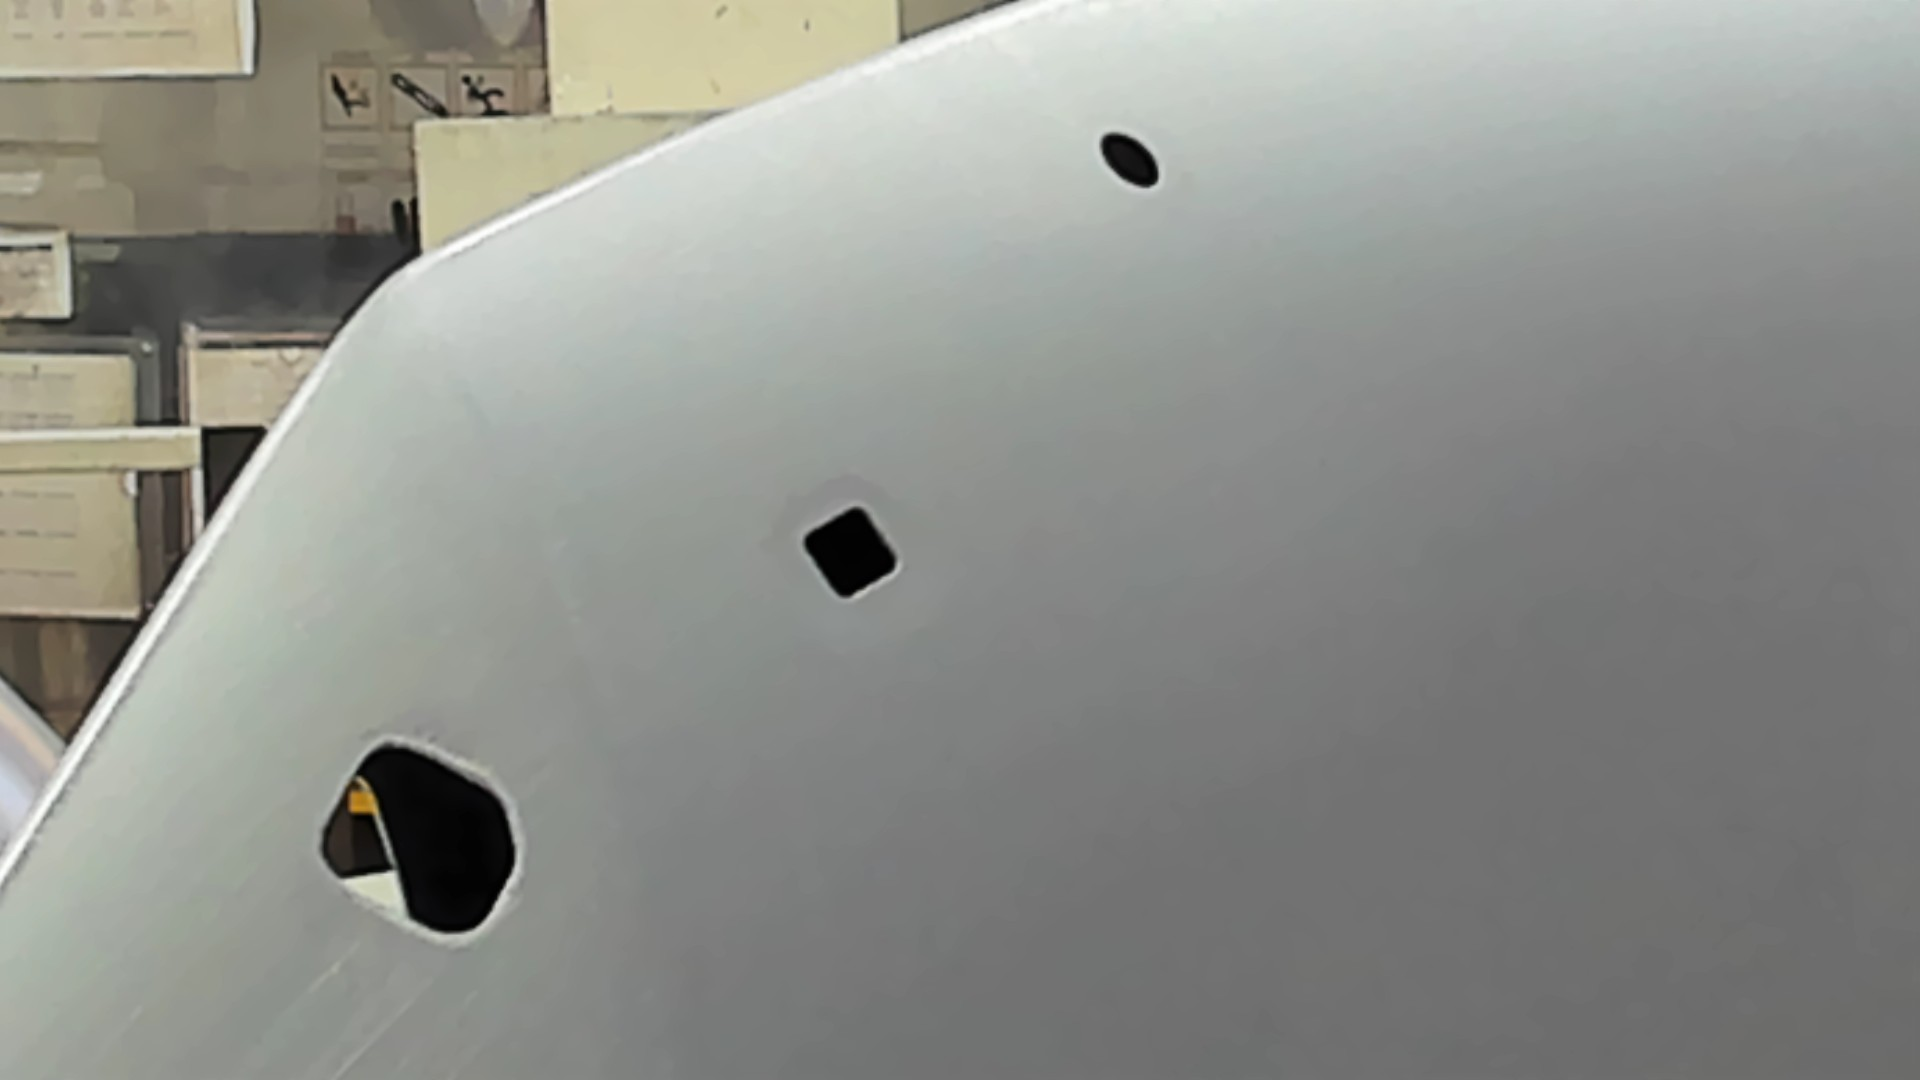capo: (916, 203, 1920, 1080)
chico: (1093, 127, 1164, 195)
grande: (311, 733, 524, 947)
mediano: (795, 500, 906, 607)
